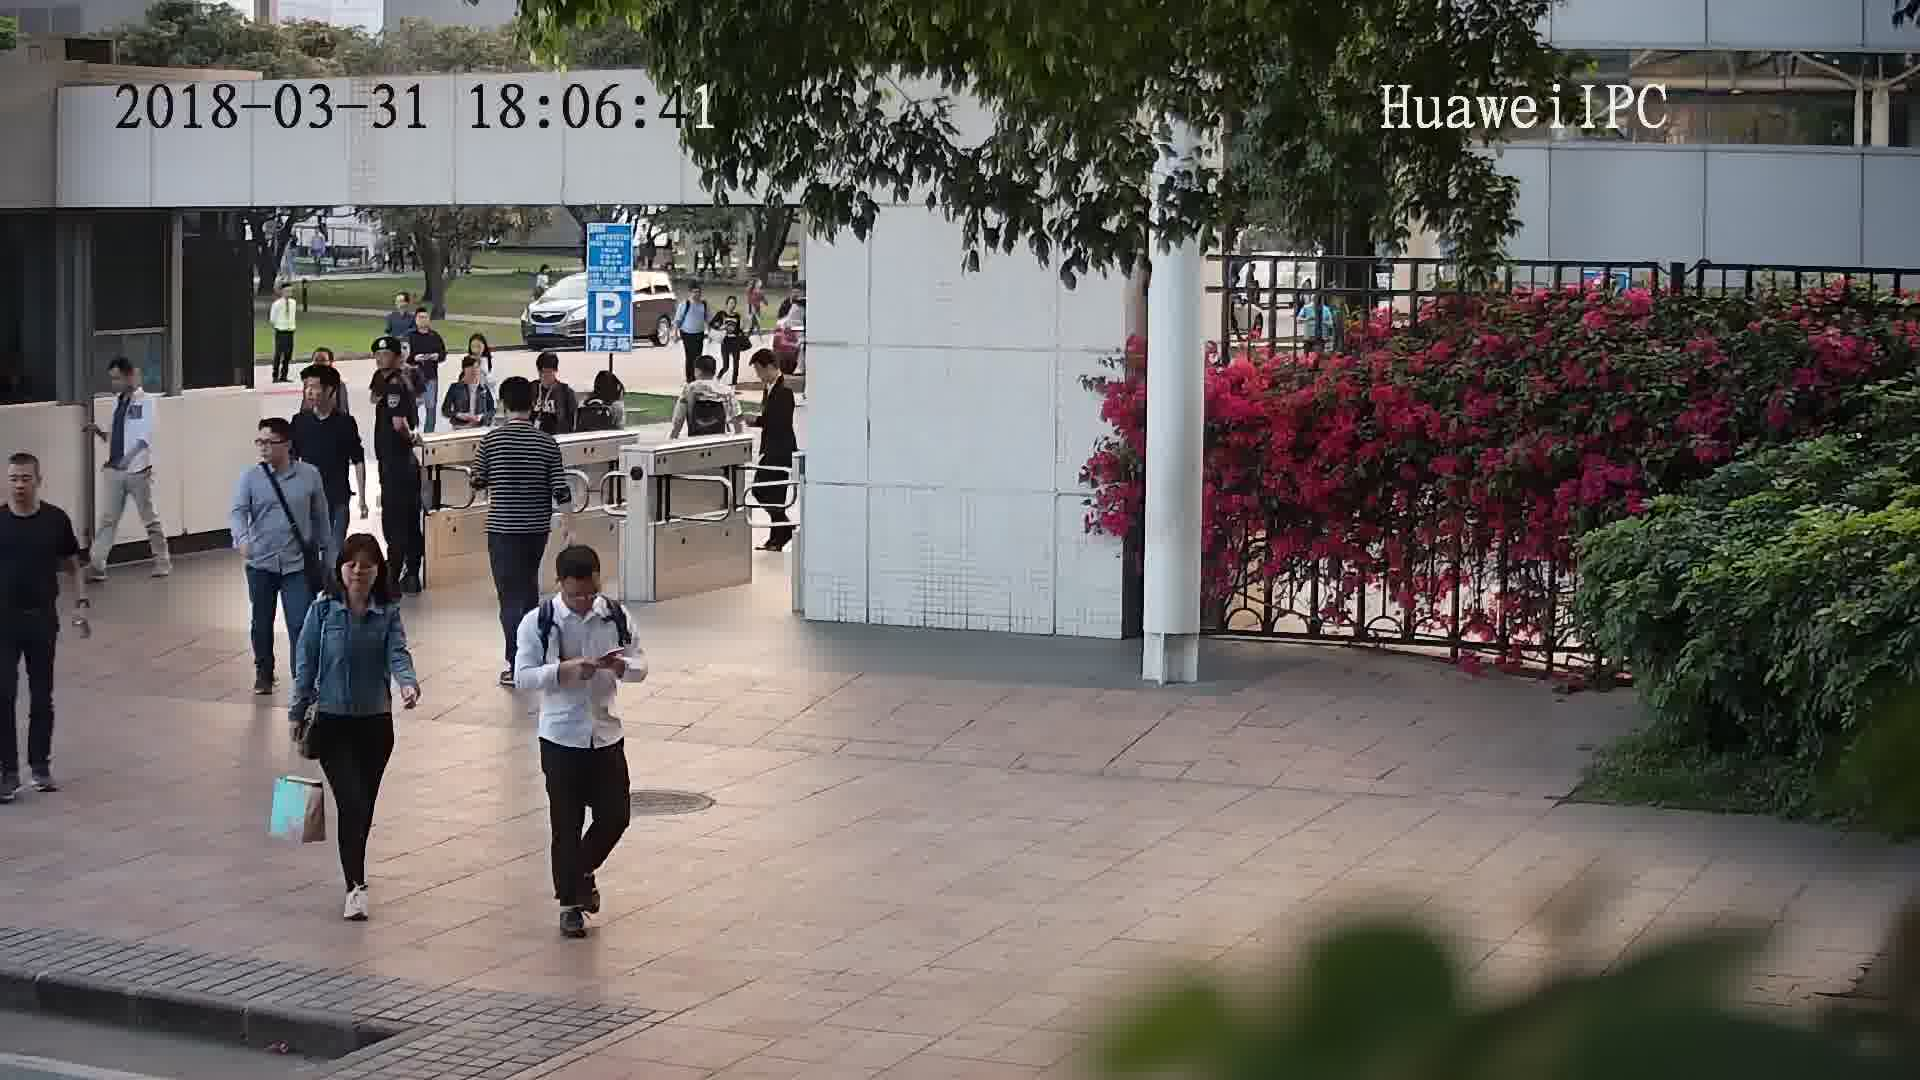face: (333, 541, 383, 591), (561, 569, 607, 615)
person: (521, 540, 627, 635), (301, 530, 403, 625), (0, 448, 73, 539), (241, 414, 325, 491), (481, 376, 557, 458), (294, 364, 352, 433), (107, 353, 158, 417), (367, 334, 419, 394), (755, 342, 799, 414), (531, 350, 579, 402), (444, 354, 496, 401), (682, 353, 733, 400), (587, 367, 628, 415), (406, 303, 447, 347), (455, 329, 499, 368), (714, 294, 746, 326), (386, 290, 419, 321), (271, 280, 299, 309), (683, 279, 710, 310), (742, 277, 766, 301)
